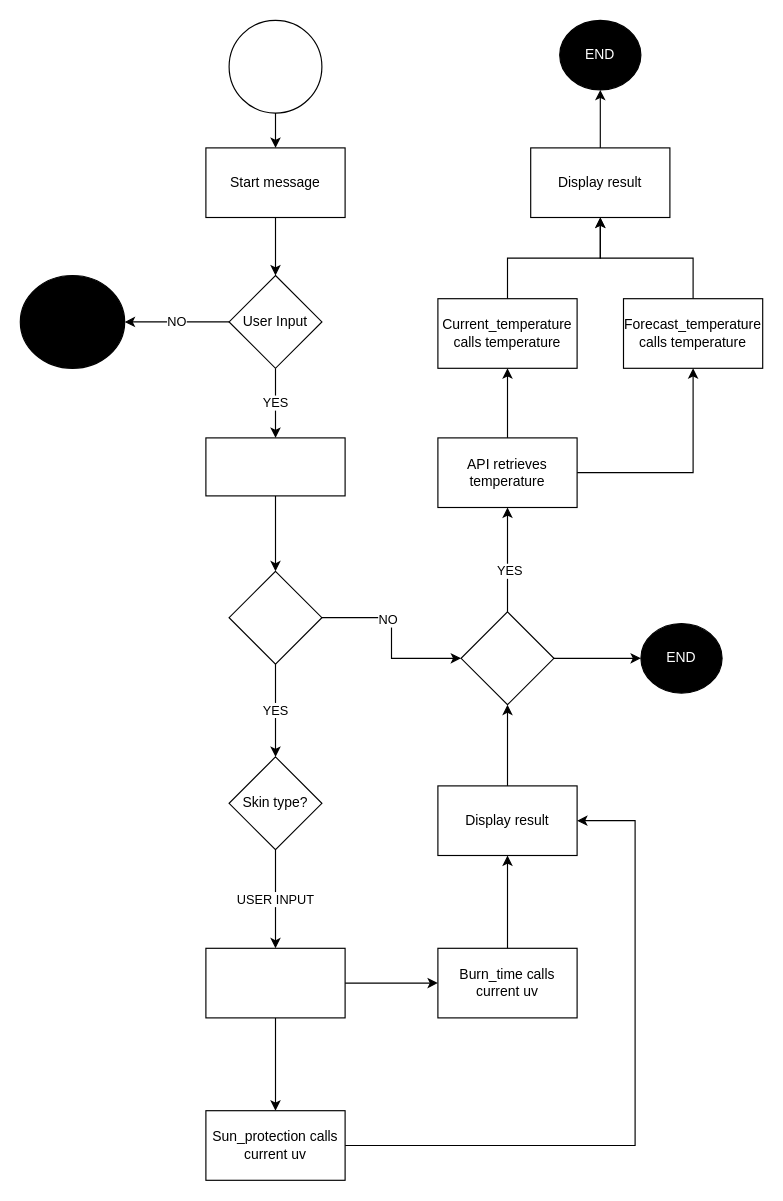
Some shapes in this 783 by 1201 pixel diagram are drawn without their labels. The centre of each missing label's shape, as x and y in pixels:
"API retrieves current uv" belongs at point (275, 982).
"Check UV" belongs at point (275, 617).
"End message" belongs at point (72, 321).
"Forecast Temperature" belongs at point (507, 658).
"message" belongs at point (275, 466).
"start" belongs at point (275, 66).
